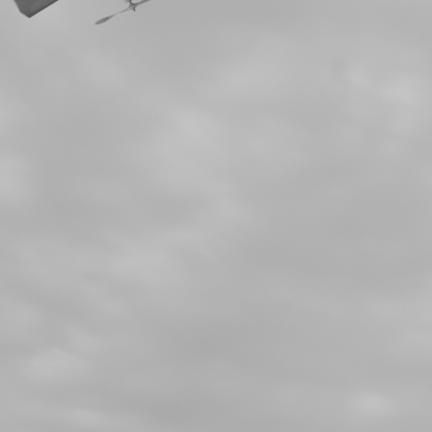Shahed: (92, 0, 150, 23), (13, 1, 59, 21)
